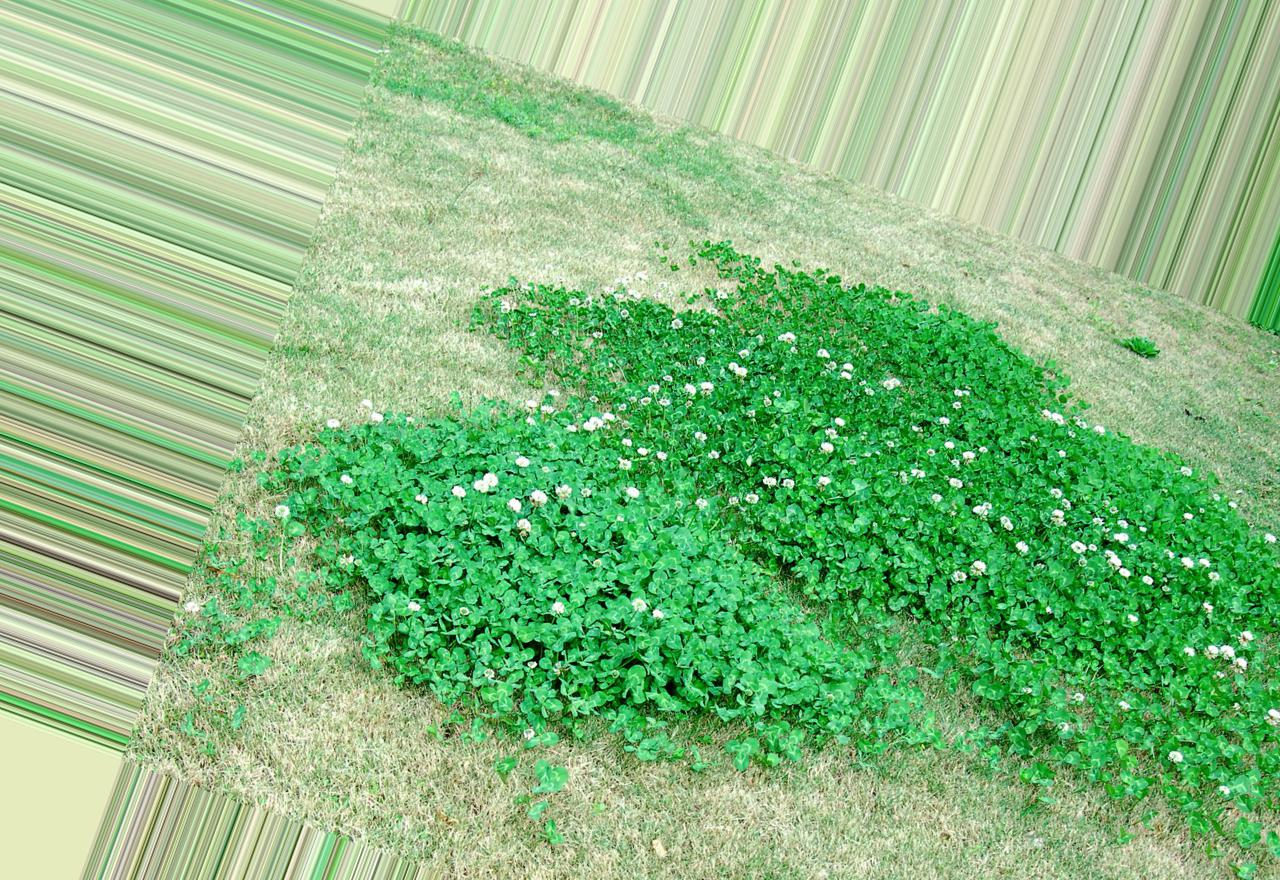patch: (415, 112, 701, 296), (260, 672, 516, 833), (789, 180, 931, 271), (978, 276, 1108, 330)
